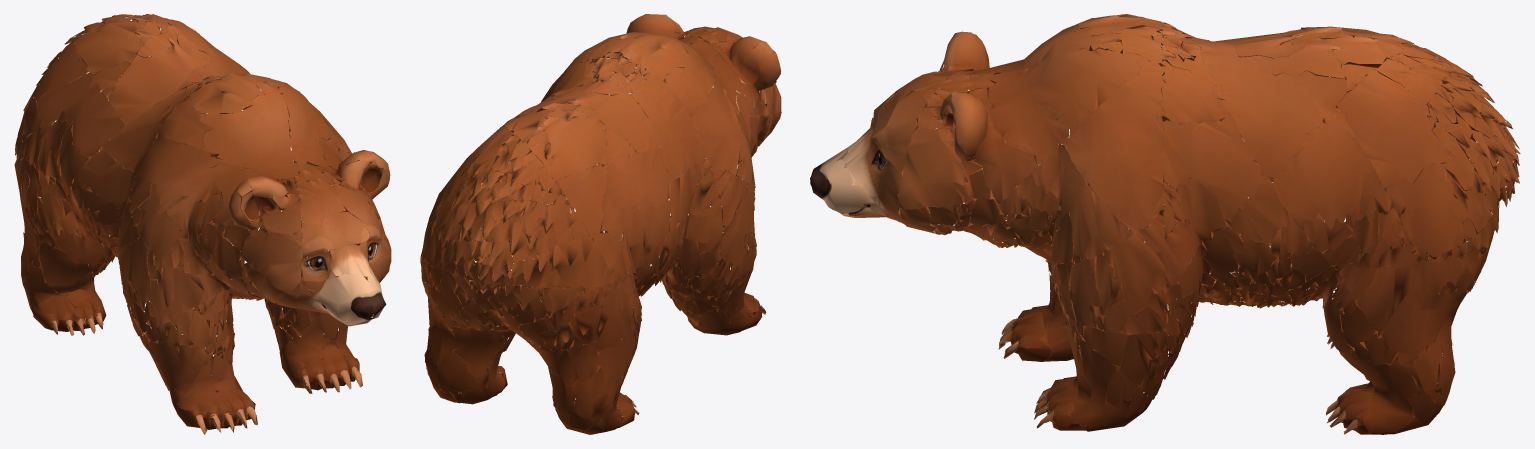
Rendered from bear.glb.
The picture shows the model from 3 angles, left to right: view 1: azimuth 30°, elevation 25°; view 2: azimuth 150°, elevation 25°; view 3: azimuth 270°, elevation 25°; orthographic projection. The views are drawn at different scales.
Visible parts, largest first — view 1: bear; view 2: bear; view 3: bear.
Part boxes in pixels (box(x1,y1,x2,y2)): bear: box(14, 14, 391, 434); bear: box(420, 14, 781, 434); bear: box(810, 14, 1520, 434).
Size of the model in its own units: 1.59 by 2.01 by 3.61.
Materials: 1 (1 with a texture image).
